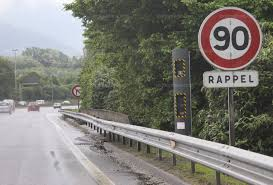Speed_limit_90km: (198, 7, 262, 71)
